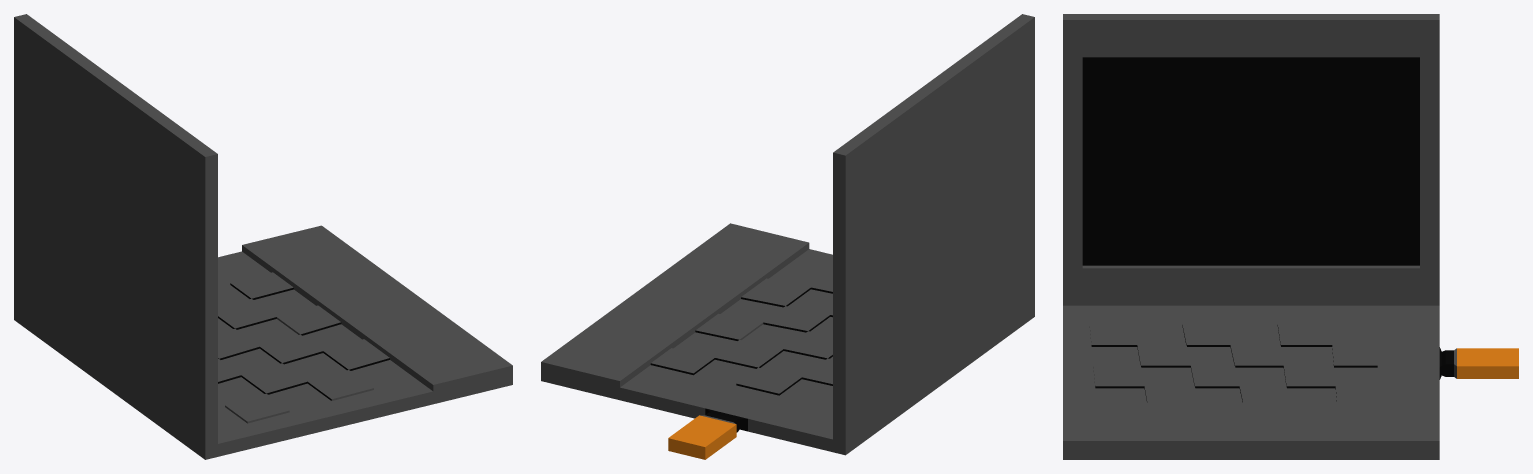
Rendered from Laptop.fbx.
3 views of the same model, side by side, from view 1: azimuth 30°, elevation 25°; view 2: azimuth 150°, elevation 25°; view 3: azimuth 270°, elevation 25° (orthographic).
Visible parts, largest first — view 1: Cube; view 2: Cube; view 3: Cube.
Part boxes in pixels (x1,y1,x2,y2): Cube: (14, 14, 512, 459); Cube: (541, 14, 1034, 459); Cube: (1063, 14, 1518, 459).
Bounding box in the file's own units: 485 × 456 × 632.
